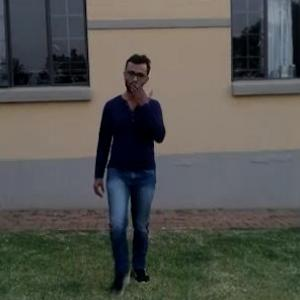follow: (106, 56, 170, 262)
